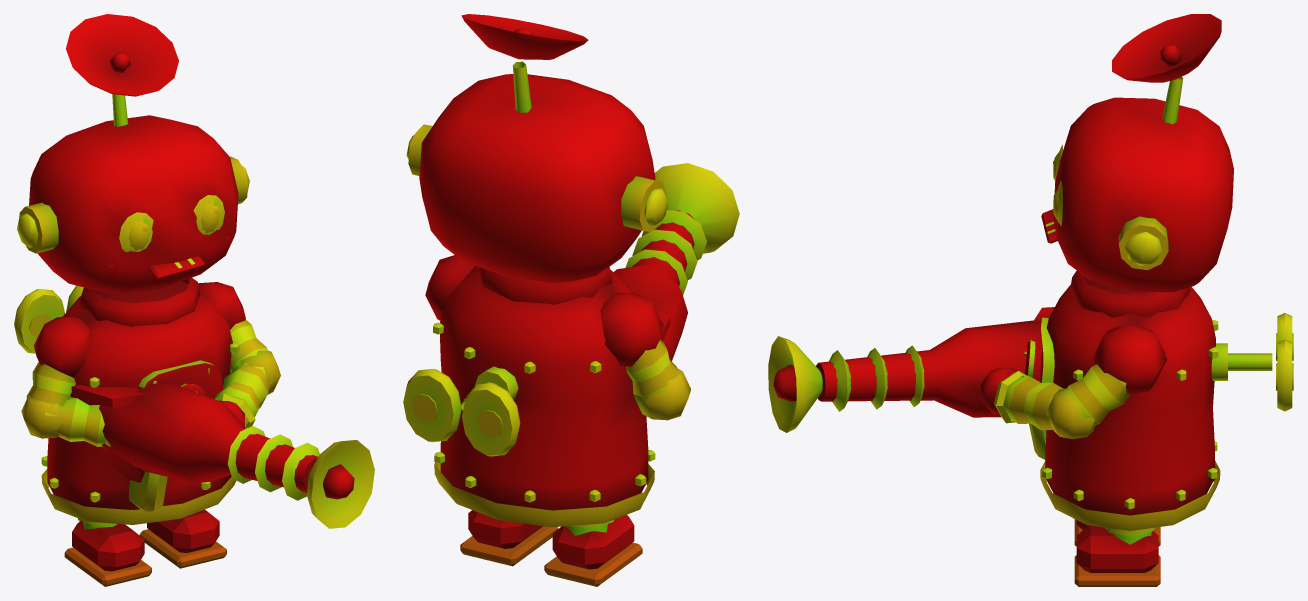
The model's file is RobotRayGunner.glb.
3 views of the same model, side by side, from view 1: azimuth 30°, elevation 25°; view 2: azimuth 150°, elevation 25°; view 3: azimuth 270°, elevation 25° (orthographic). The views are drawn at different scales.
Parts seen in each view (by area): view 1: RobotRayGunner; view 2: RobotRayGunner; view 3: RobotRayGunner.
Part boxes in pixels (x1,y1,x2,y2): RobotRayGunner: (14,14,374,586); RobotRayGunner: (403,14,739,586); RobotRayGunner: (768,14,1293,586).
Bounding box in the file's own units: 0.4496 × 0.928 × 0.8327.
